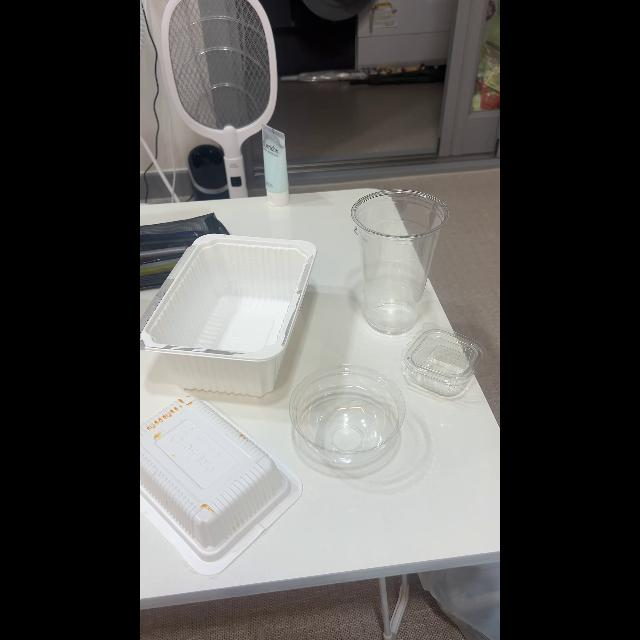clean: (140, 237, 318, 389), (352, 191, 448, 331), (289, 364, 406, 464), (401, 328, 482, 394)
dirty: (140, 396, 288, 552)
